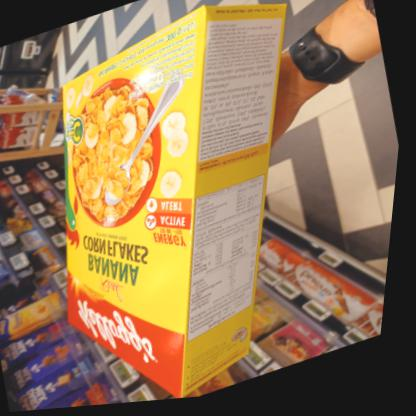i: (0, 0, 382, 413)
